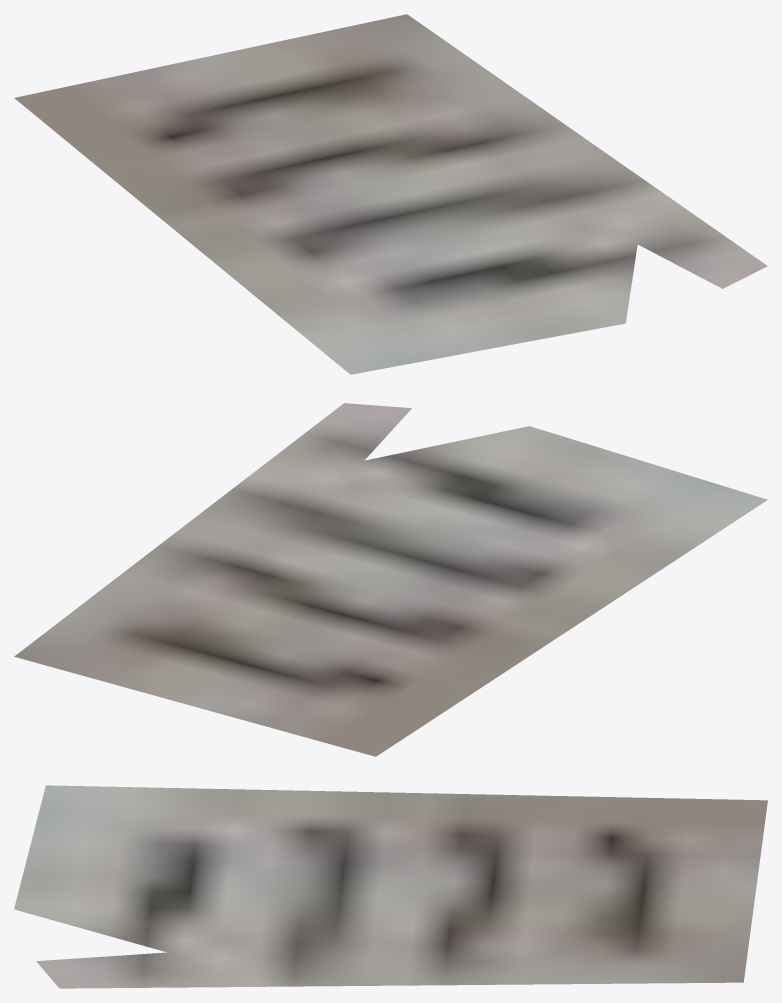
File: Paper3.fbx
The picture shows the model from 3 angles, top to bottom: view 1: azimuth 30°, elevation 25°; view 2: azimuth 150°, elevation 25°; view 3: azimuth 270°, elevation 25°; orthographic projection.
Parts seen in each view (by area): view 1: Paper3; view 2: Paper3; view 3: Paper3.
Boxes of the visible parts, x1=… form: Paper3: x1=14, y1=14, x2=767, y2=374; Paper3: x1=14, y1=403, x2=767, y2=756; Paper3: x1=14, y1=785, x2=767, y2=988.
Size of the model in its own units: 0.2559 by 9.15e-16 by 0.4012.
Materials: 1 (1 with a texture image).
